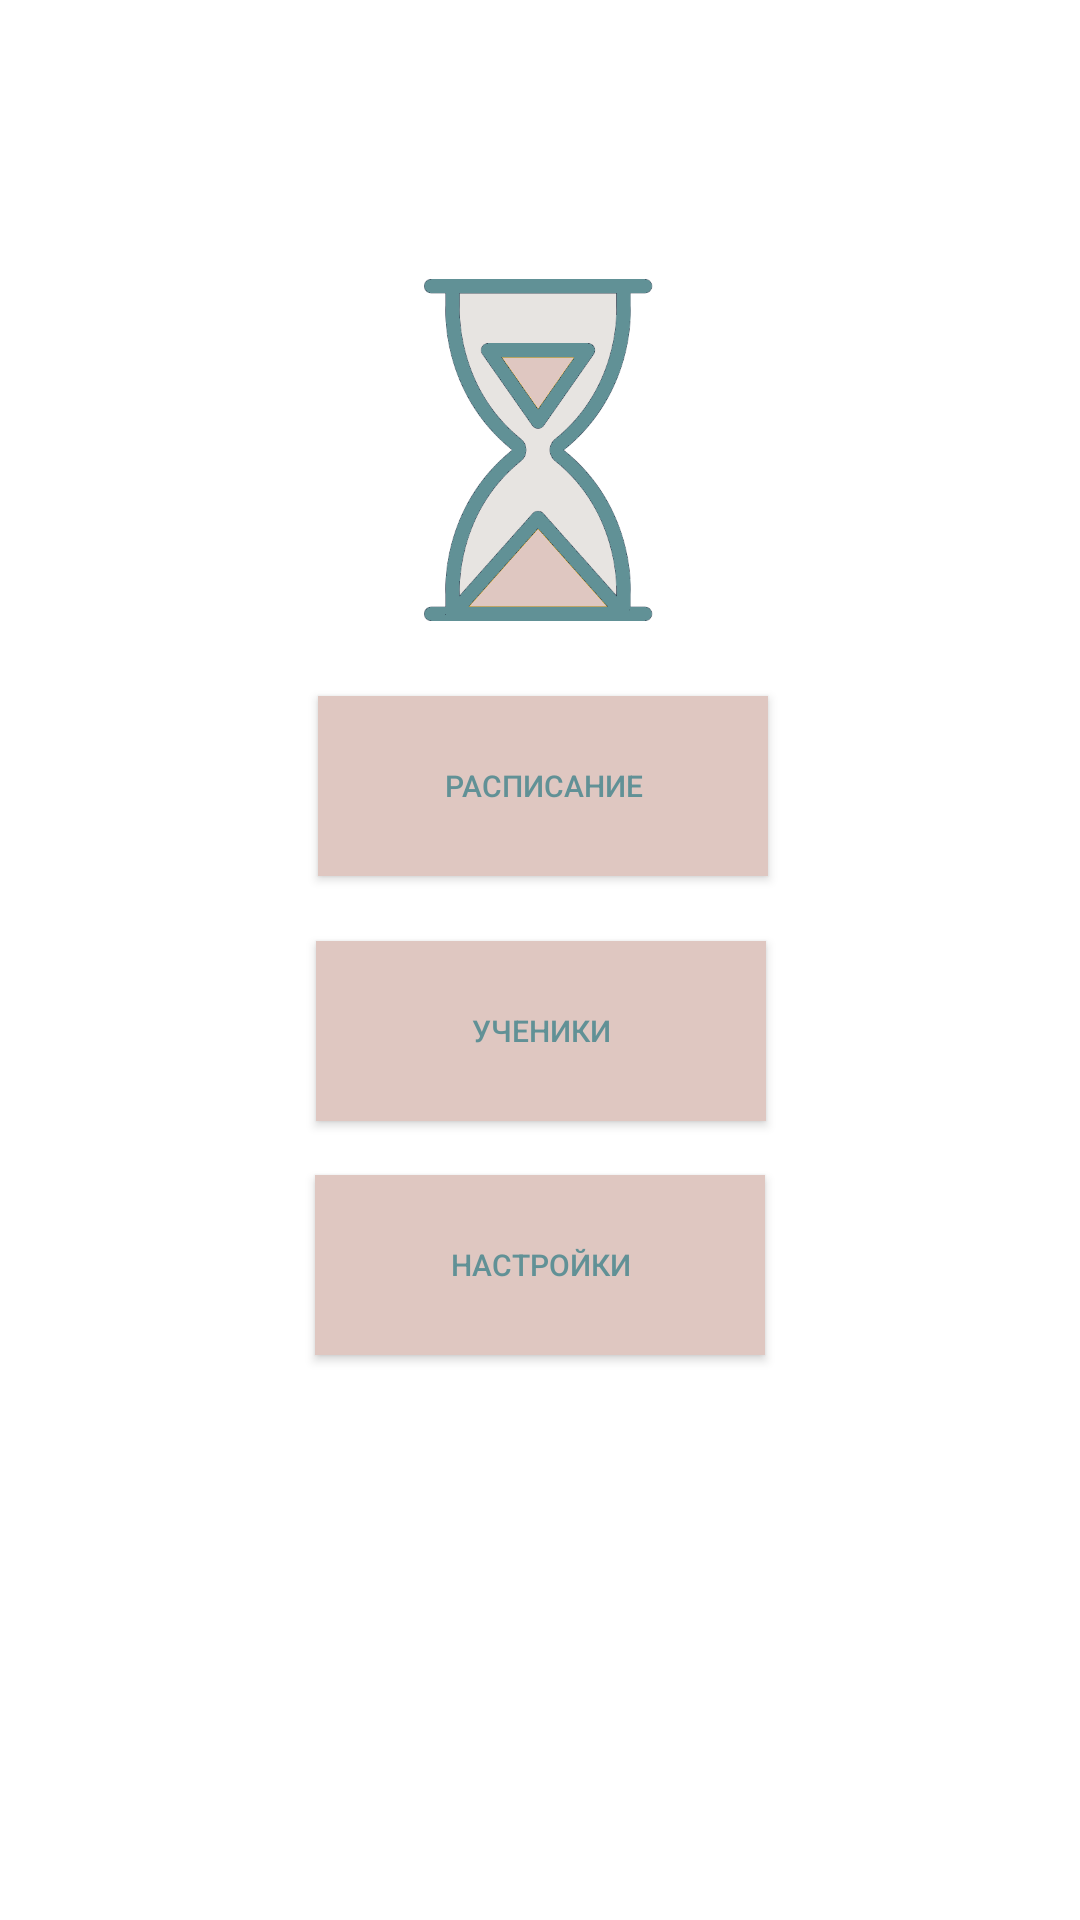

Screen size 1080×1920. Icon name, then its center in pixels as (x,y):
hourglass: (538,450)
